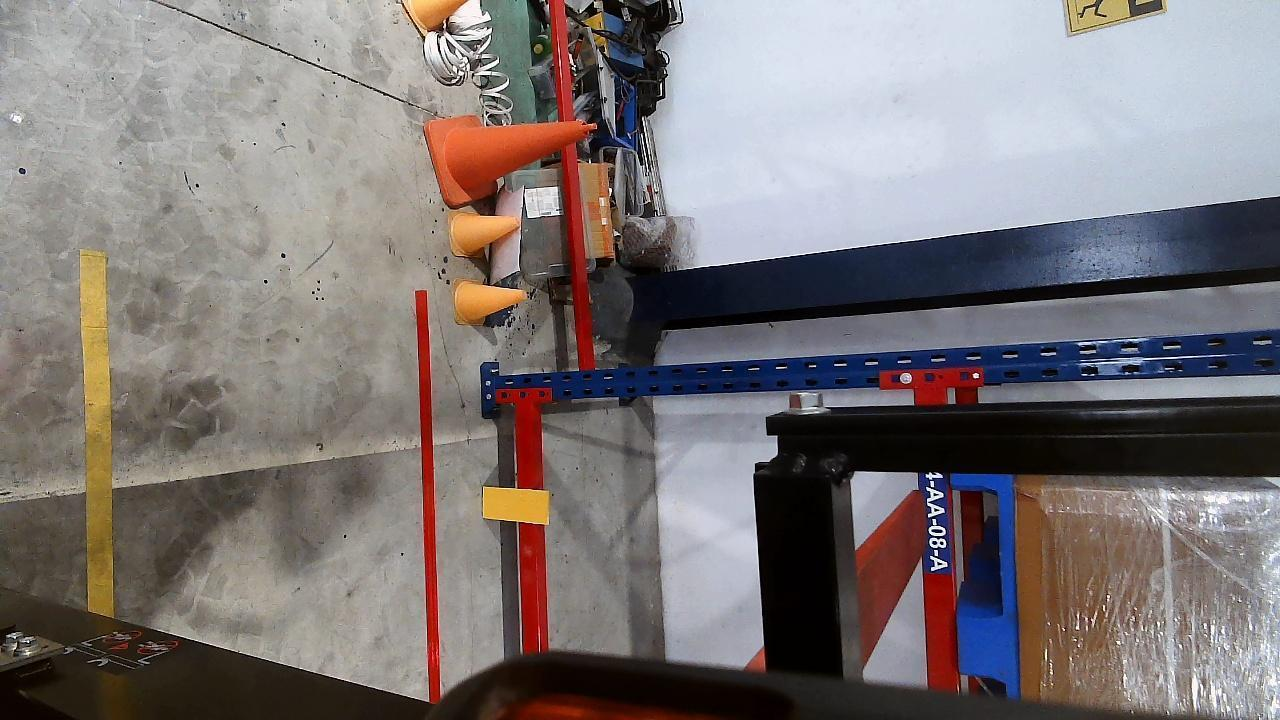red_line: (414, 292, 444, 706)
yellow_line: (79, 249, 113, 616)
